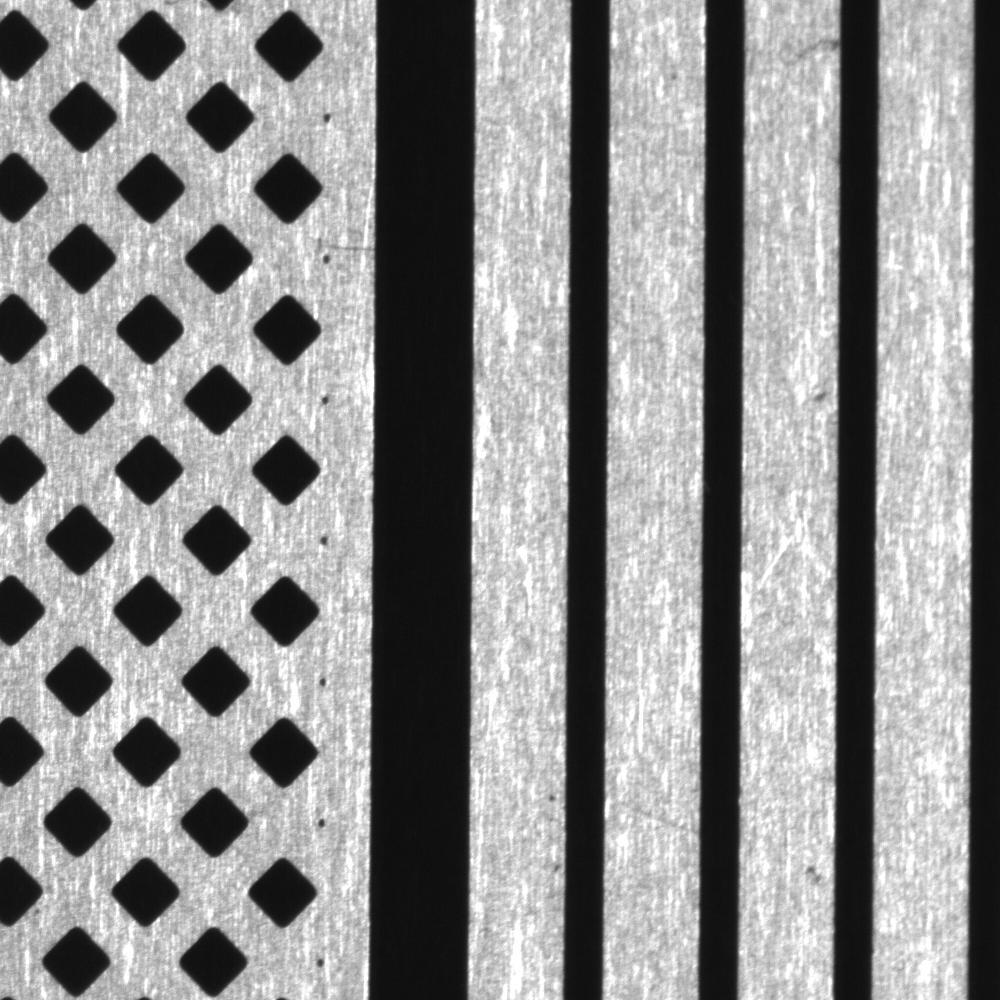Etching: (779, 31, 842, 71), (804, 856, 835, 898), (805, 374, 836, 413)
Pinhole: (540, 779, 565, 811)
Scar: (605, 782, 698, 832), (877, 581, 968, 626), (319, 229, 373, 254)
